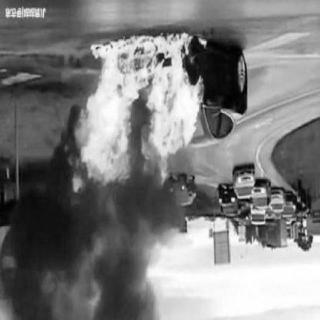Smoke: (8, 160, 172, 318)
